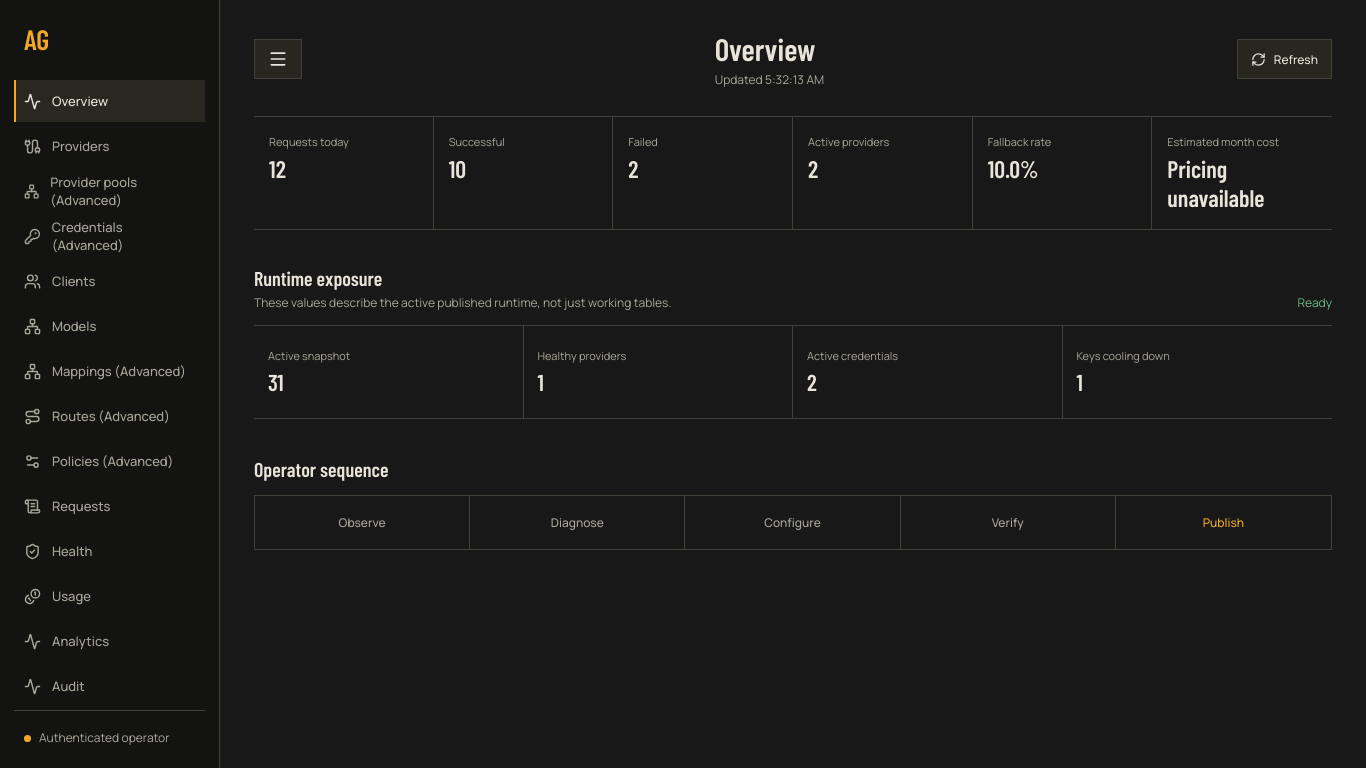
Test: control plane › explains why a request was routed the way it was
The width and height of the screenshot is (1366, 768).
Step 1. Click the button "Requests" → (110, 506), box [14,485,205,527]
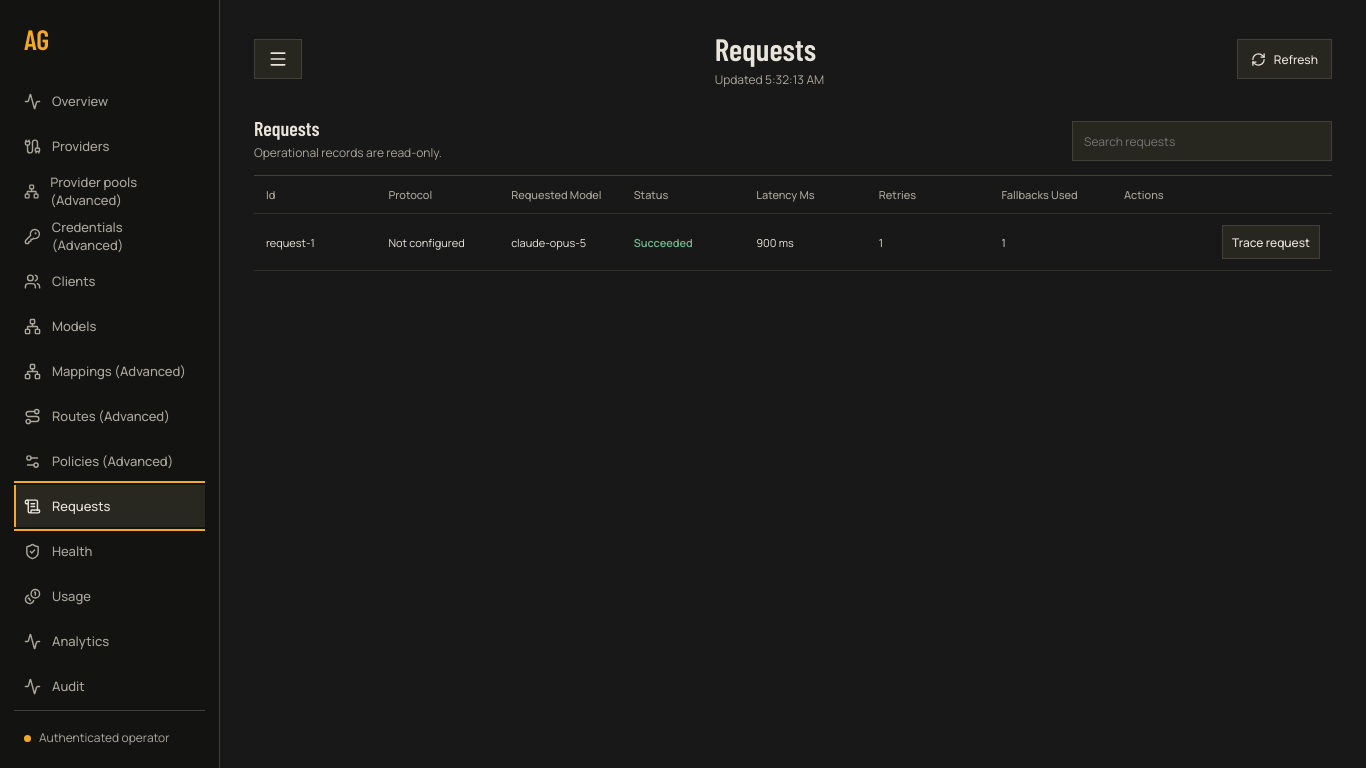
Step 2. Click the button "Trace request" → (1271, 242), box [1222,225,1320,259]
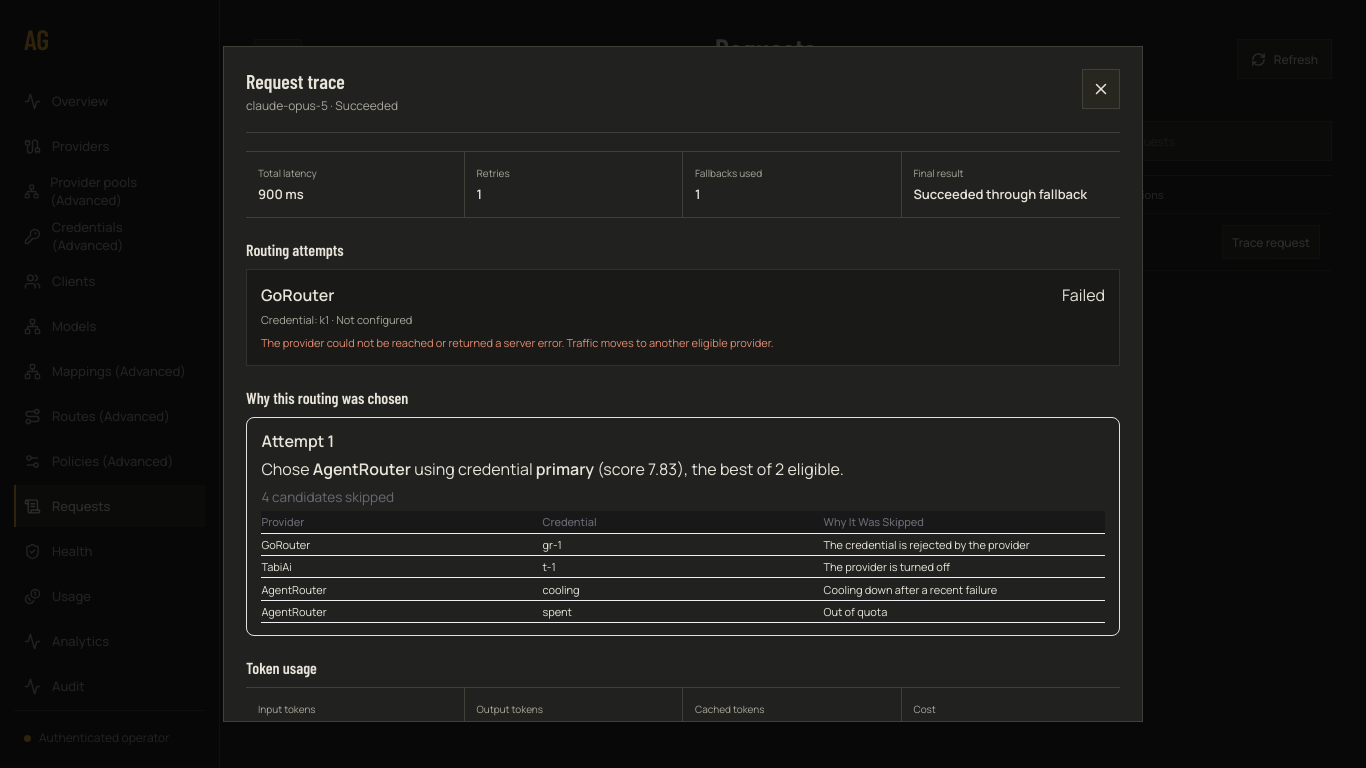
Now the dialog "Request trace" is shown, box [223,46,1143,722]
Now the text "Chose" is shown, box [261,458,313,480]
Now the text "the best of 2 eligible" is shown, box [684,458,840,480]
